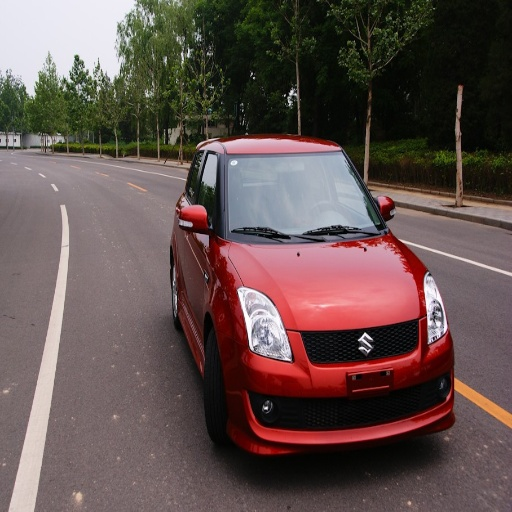front_bumper: (225, 318, 454, 455)
front_right_door: (187, 150, 221, 324)
front_right_light: (237, 287, 295, 362)
hood: (224, 232, 426, 329)
